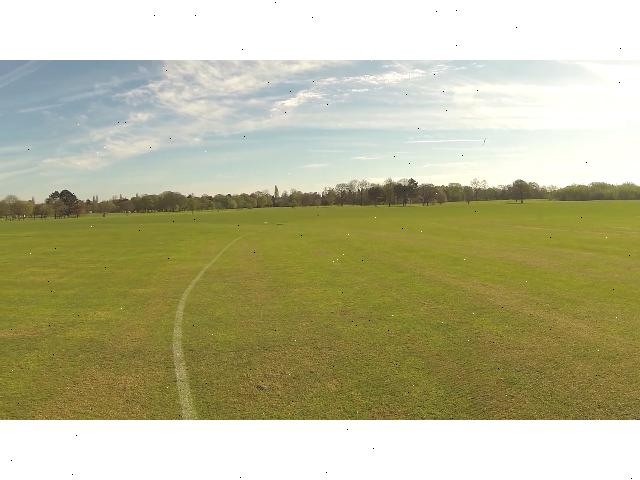Anti-Drone: (478, 134, 490, 148)
